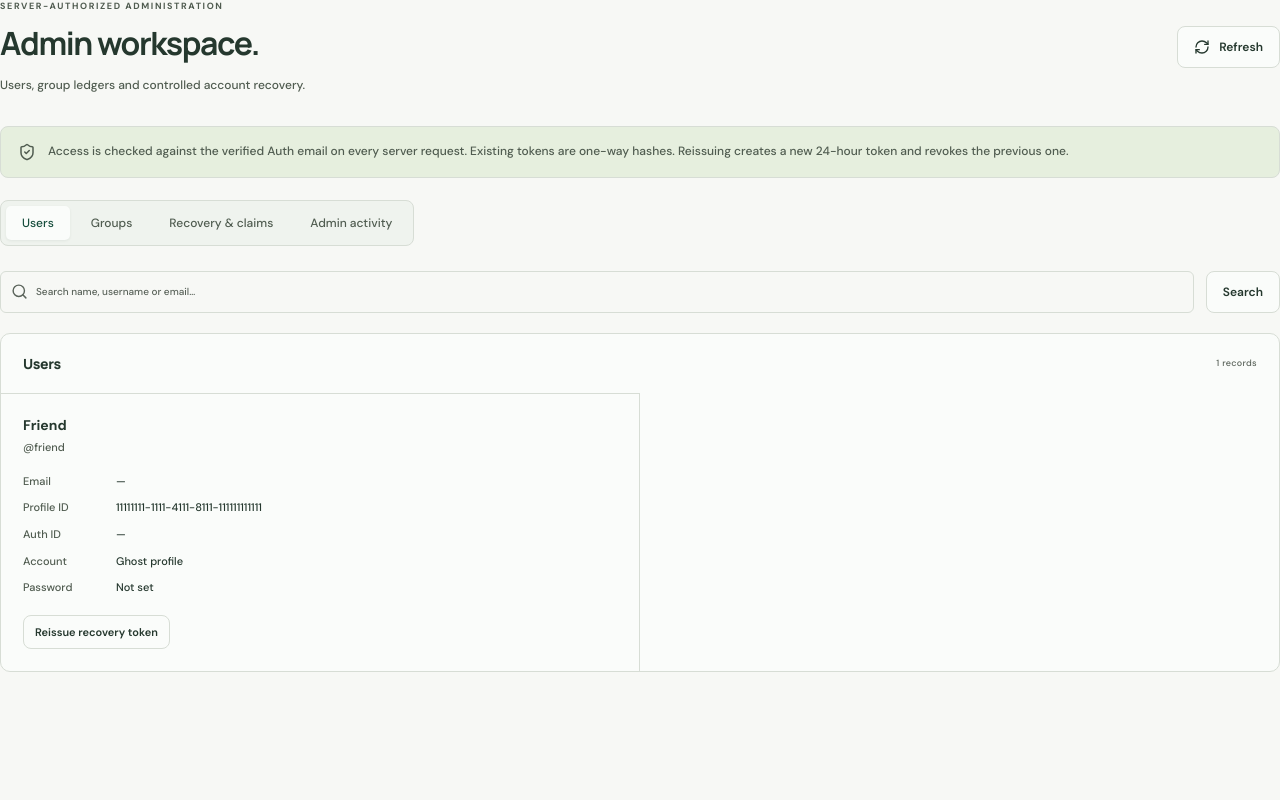
loads server records and requires confirmation before reissuing a token
Step 1. Click the button "Reissue recovery token" → {"x": 96, "y": 632}, box [23,615,170,649]
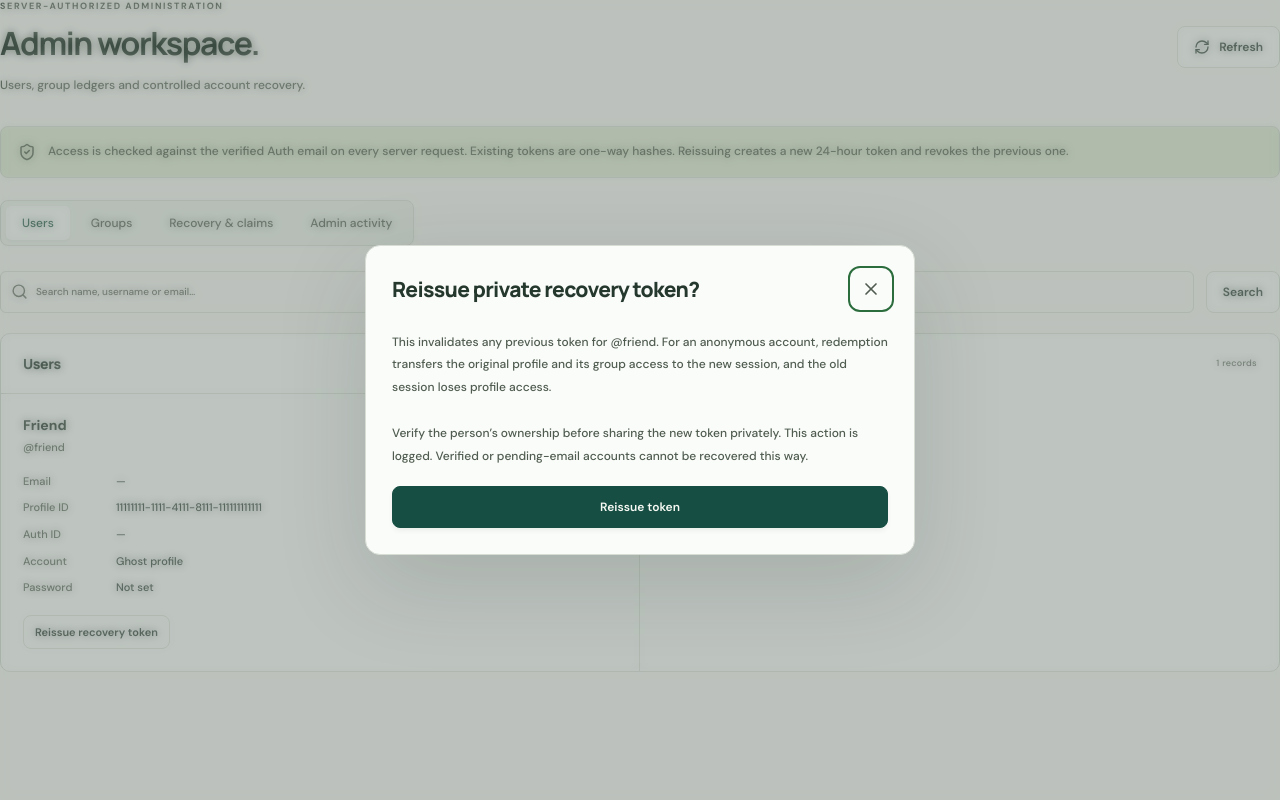
Check: the text "invalidates any previous token" is shown, box [392,334,623,350]
Step 2. Click the button "Reissue token" → {"x": 640, "y": 508}, box [392,486,888,528]
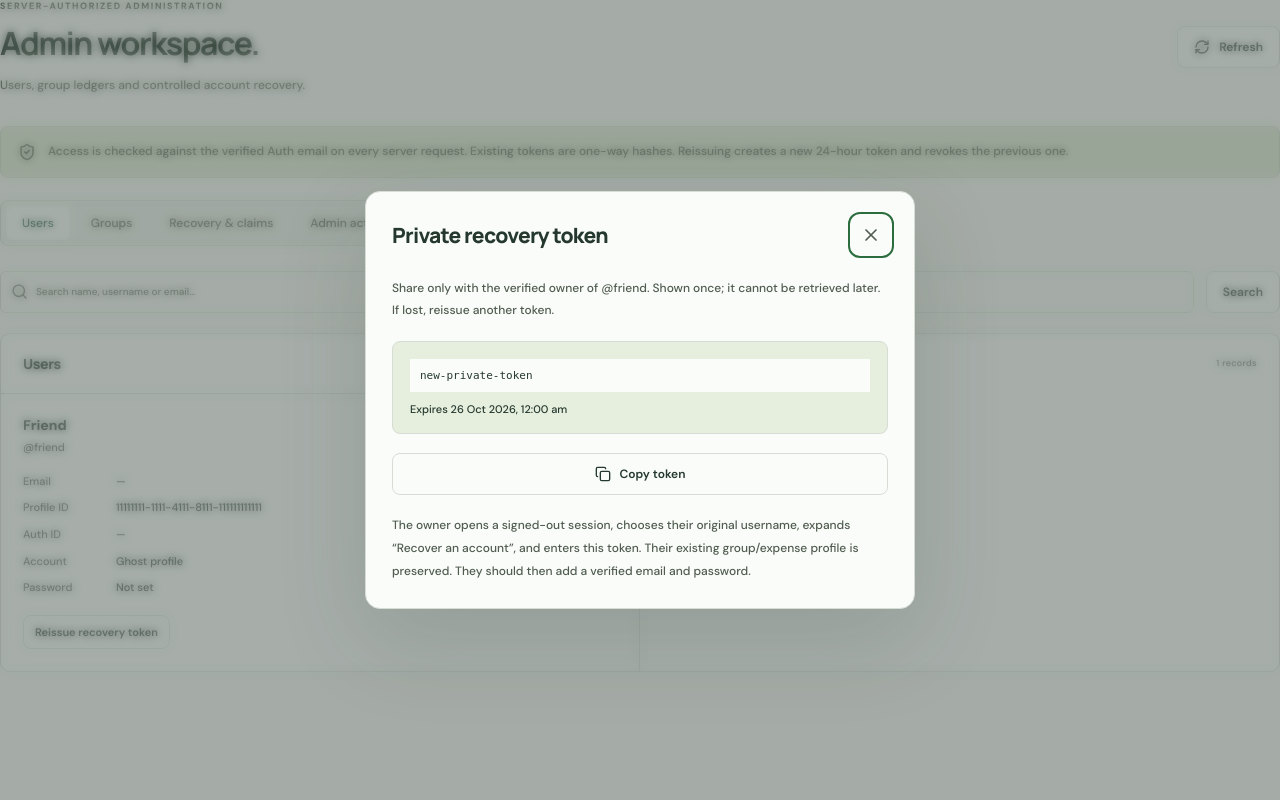
Check: the dialog shows "new-private-token", box [420,369,533,382]
